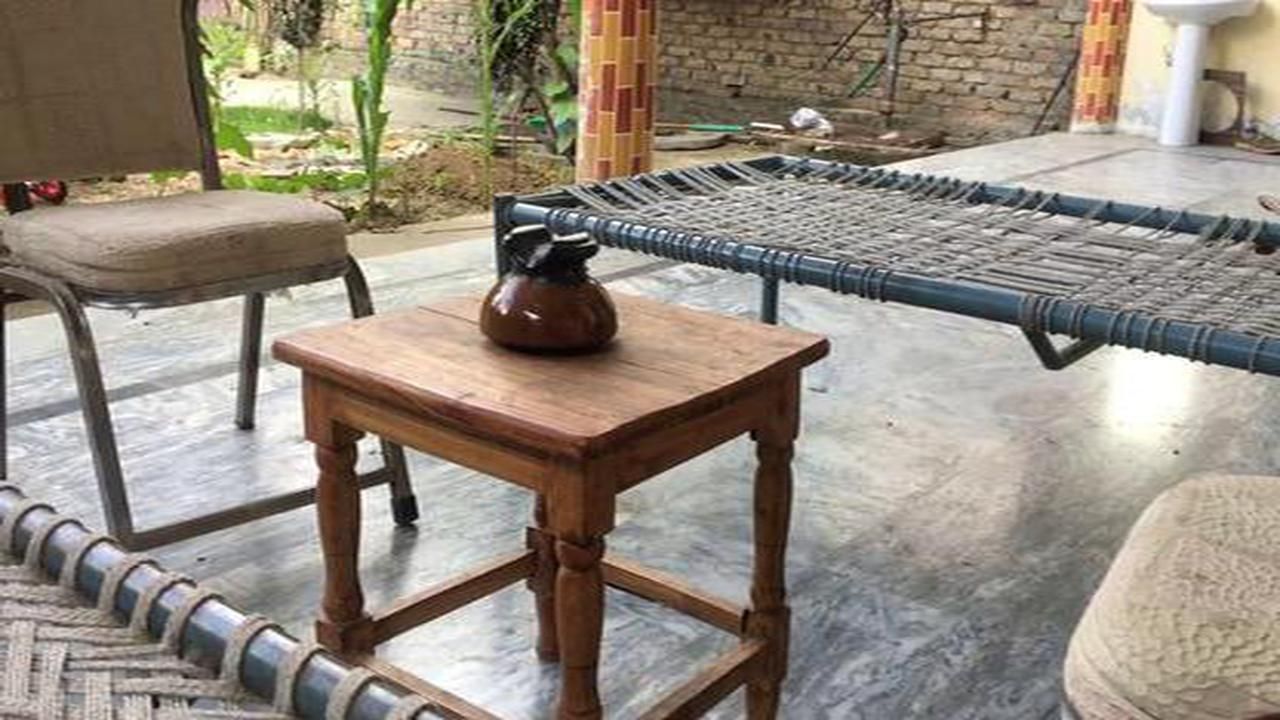insulator_pin: (462, 213, 637, 364)
